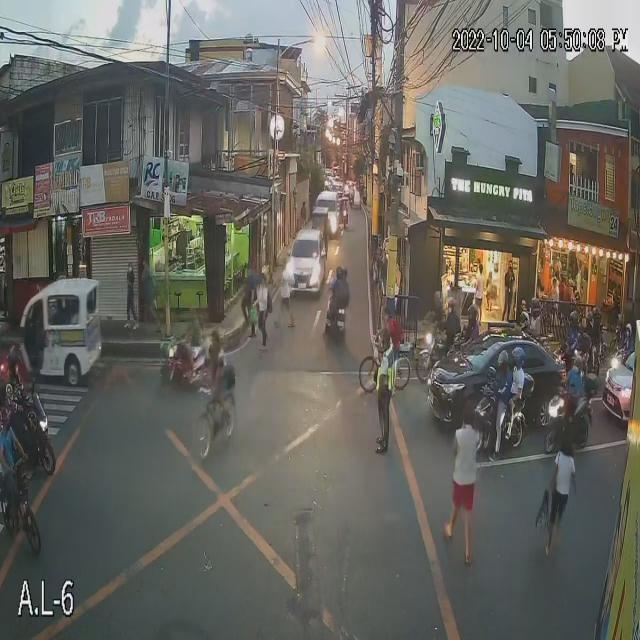helmet: (6, 347, 23, 377), (497, 349, 511, 375), (465, 304, 480, 327), (511, 347, 525, 371), (570, 357, 584, 375), (532, 300, 542, 323), (446, 298, 459, 315), (334, 266, 348, 281), (569, 315, 580, 331), (584, 312, 594, 328), (592, 307, 600, 324), (626, 325, 633, 338)
motorcycle: (0, 378, 56, 476), (543, 380, 600, 452), (474, 382, 527, 450), (160, 336, 216, 390), (415, 338, 452, 384), (324, 298, 346, 336), (606, 350, 634, 379)
rider: (488, 349, 510, 440), (4, 347, 24, 438), (181, 304, 203, 360), (511, 345, 529, 413), (565, 356, 587, 409), (328, 266, 349, 320), (460, 303, 483, 349), (439, 299, 461, 342), (564, 313, 583, 352), (526, 297, 543, 340), (591, 306, 602, 342), (583, 311, 594, 339), (624, 322, 632, 351)
